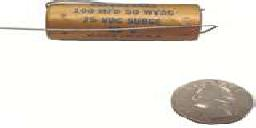Electrolytic-Capacitor: (24, 2, 223, 47)
